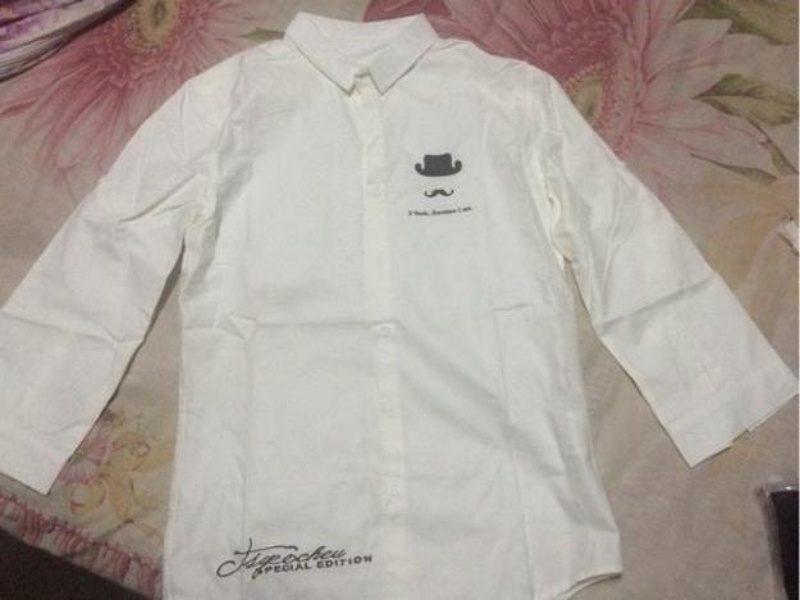long_sleeved_shirt: (0, 12, 799, 599)
